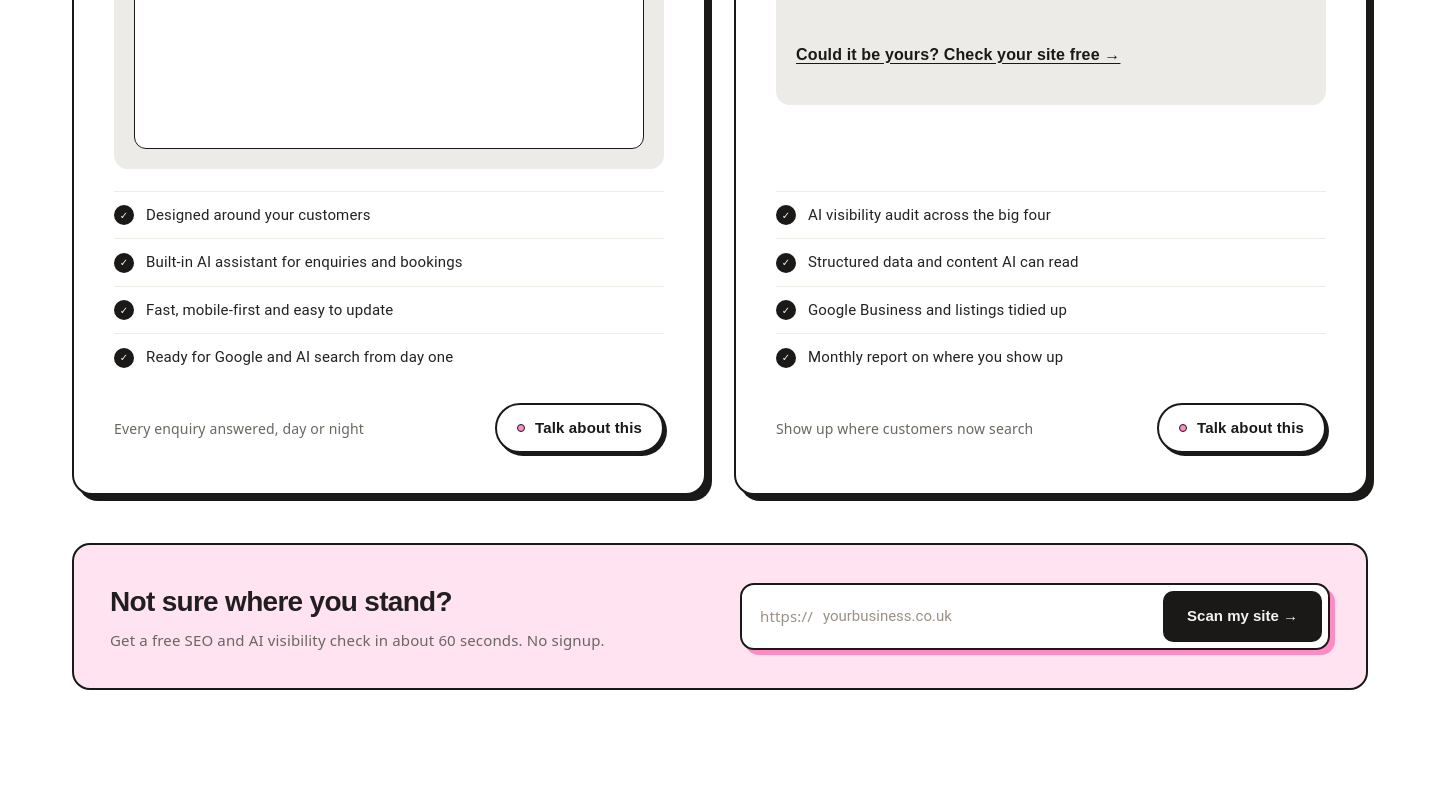
Test: Services › shows an error instead of navigating for an invalid website address
(page scrolled)
Type "definitely not a domain" into the field named "Website address" at (988, 616), box [821,604,1155,629]
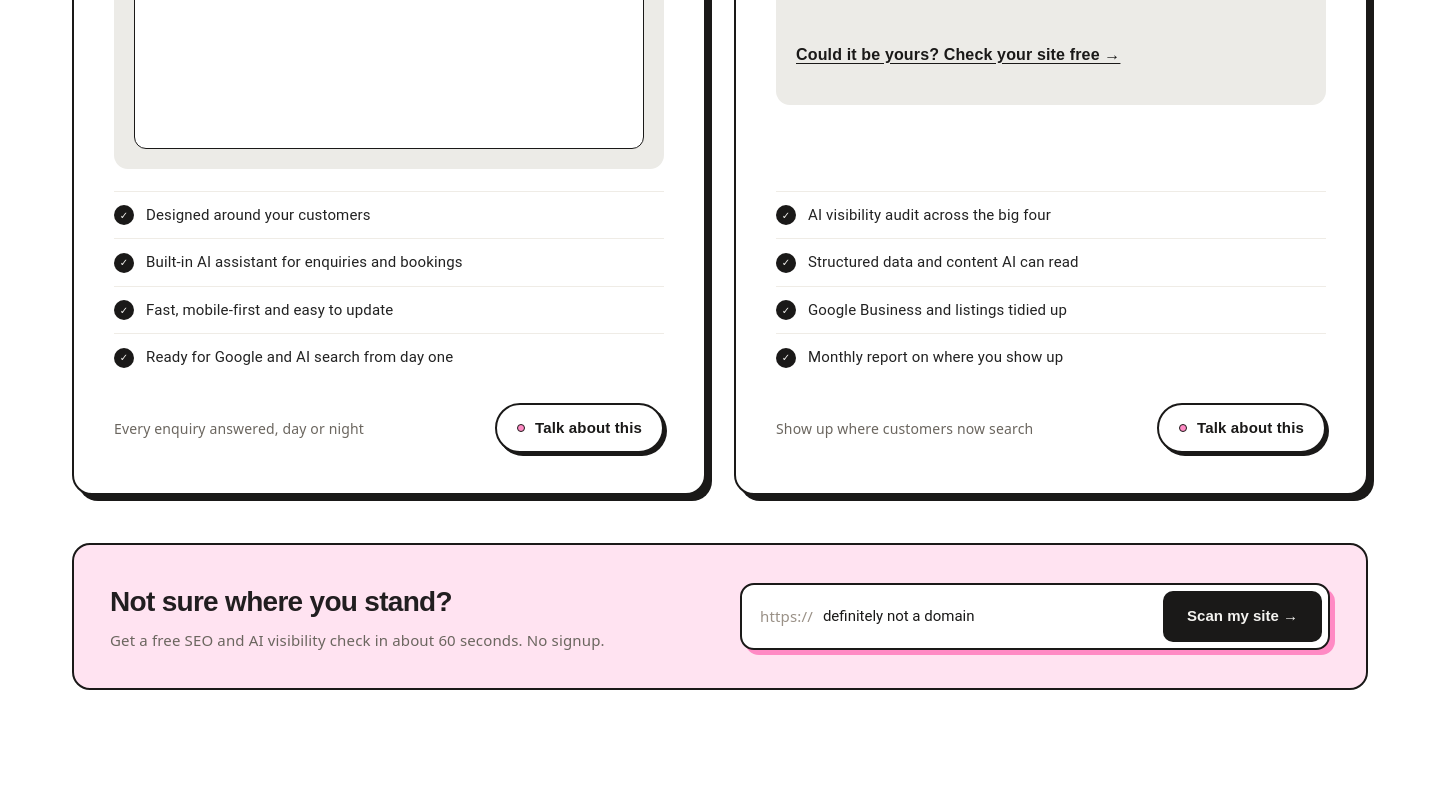
Click the button "Scan my site →" at (1243, 616), box [1163,591,1322,642]
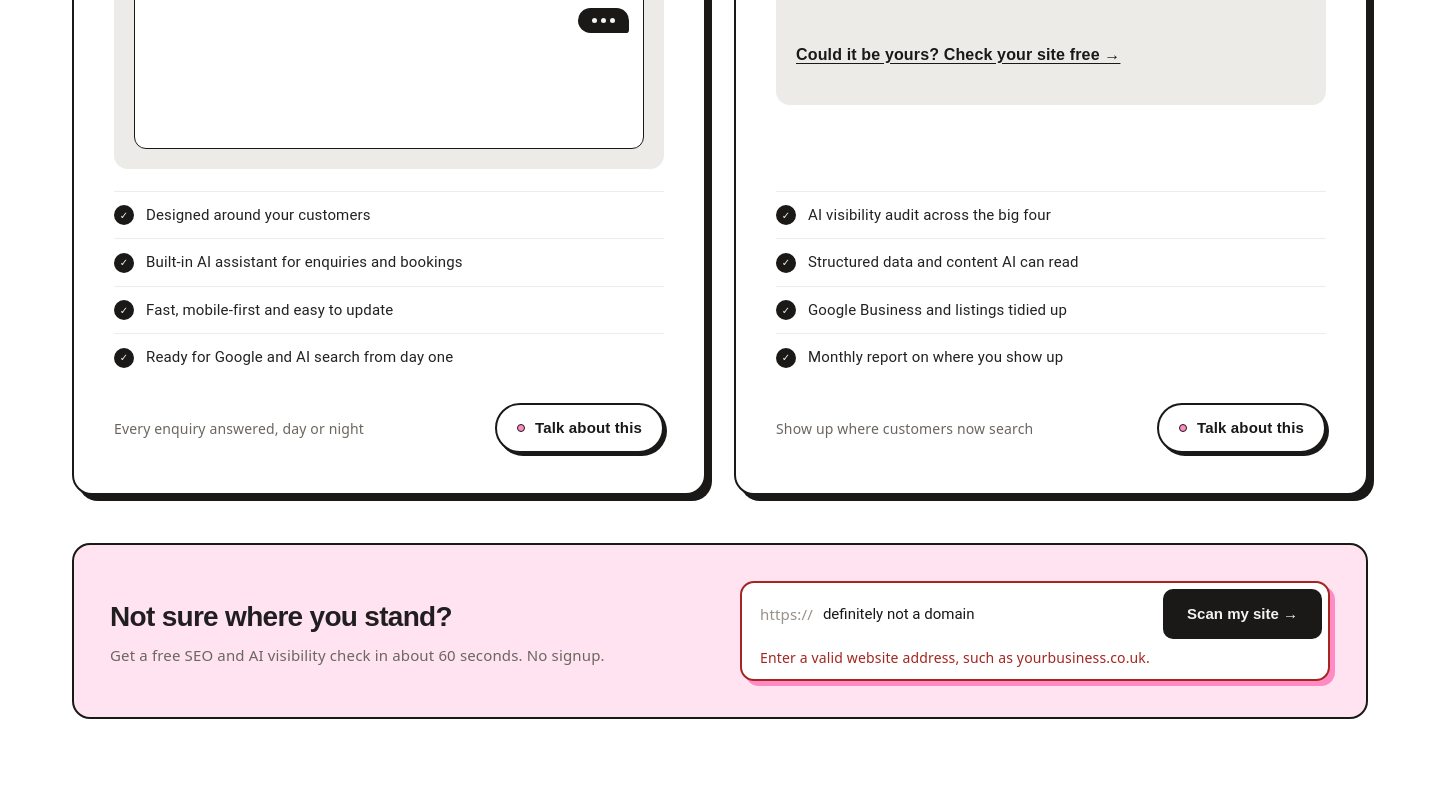
Check: the message reads "Enter a valid website address, such as yourbusiness.co.uk.", box [760,648,1150,667]
